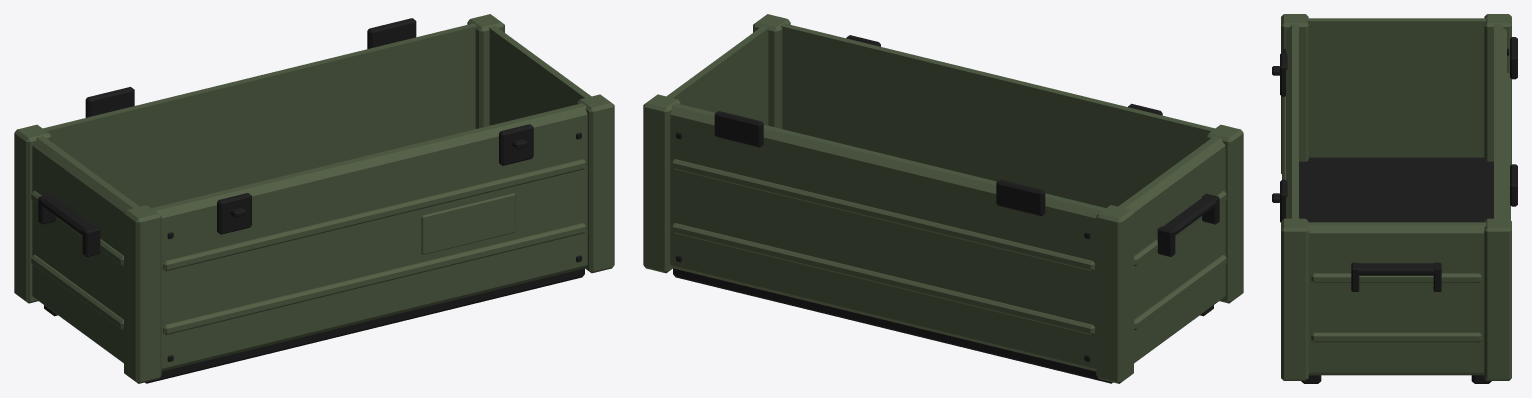
The model's file is SRZ_ArmyBox_Unique_Body.fbx.
The picture shows the model from 3 angles, left to right: view 1: azimuth 30°, elevation 25°; view 2: azimuth 150°, elevation 25°; view 3: azimuth 270°, elevation 25°; orthographic projection. The views are drawn at different scales.
Parts seen in each view (by area): view 1: ArmyBox_Unique_Body; view 2: ArmyBox_Unique_Body; view 3: ArmyBox_Unique_Body.
Part boxes in pixels (<box>): ArmyBox_Unique_Body: <box>14,14,614,383</box>; ArmyBox_Unique_Body: <box>643,14,1243,383</box>; ArmyBox_Unique_Body: <box>1272,14,1517,383</box>.
Size of what is drawn, in the model's own units: 108 by 38.5 by 49.
